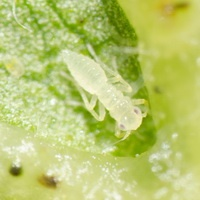insect: (61, 49, 142, 139)
